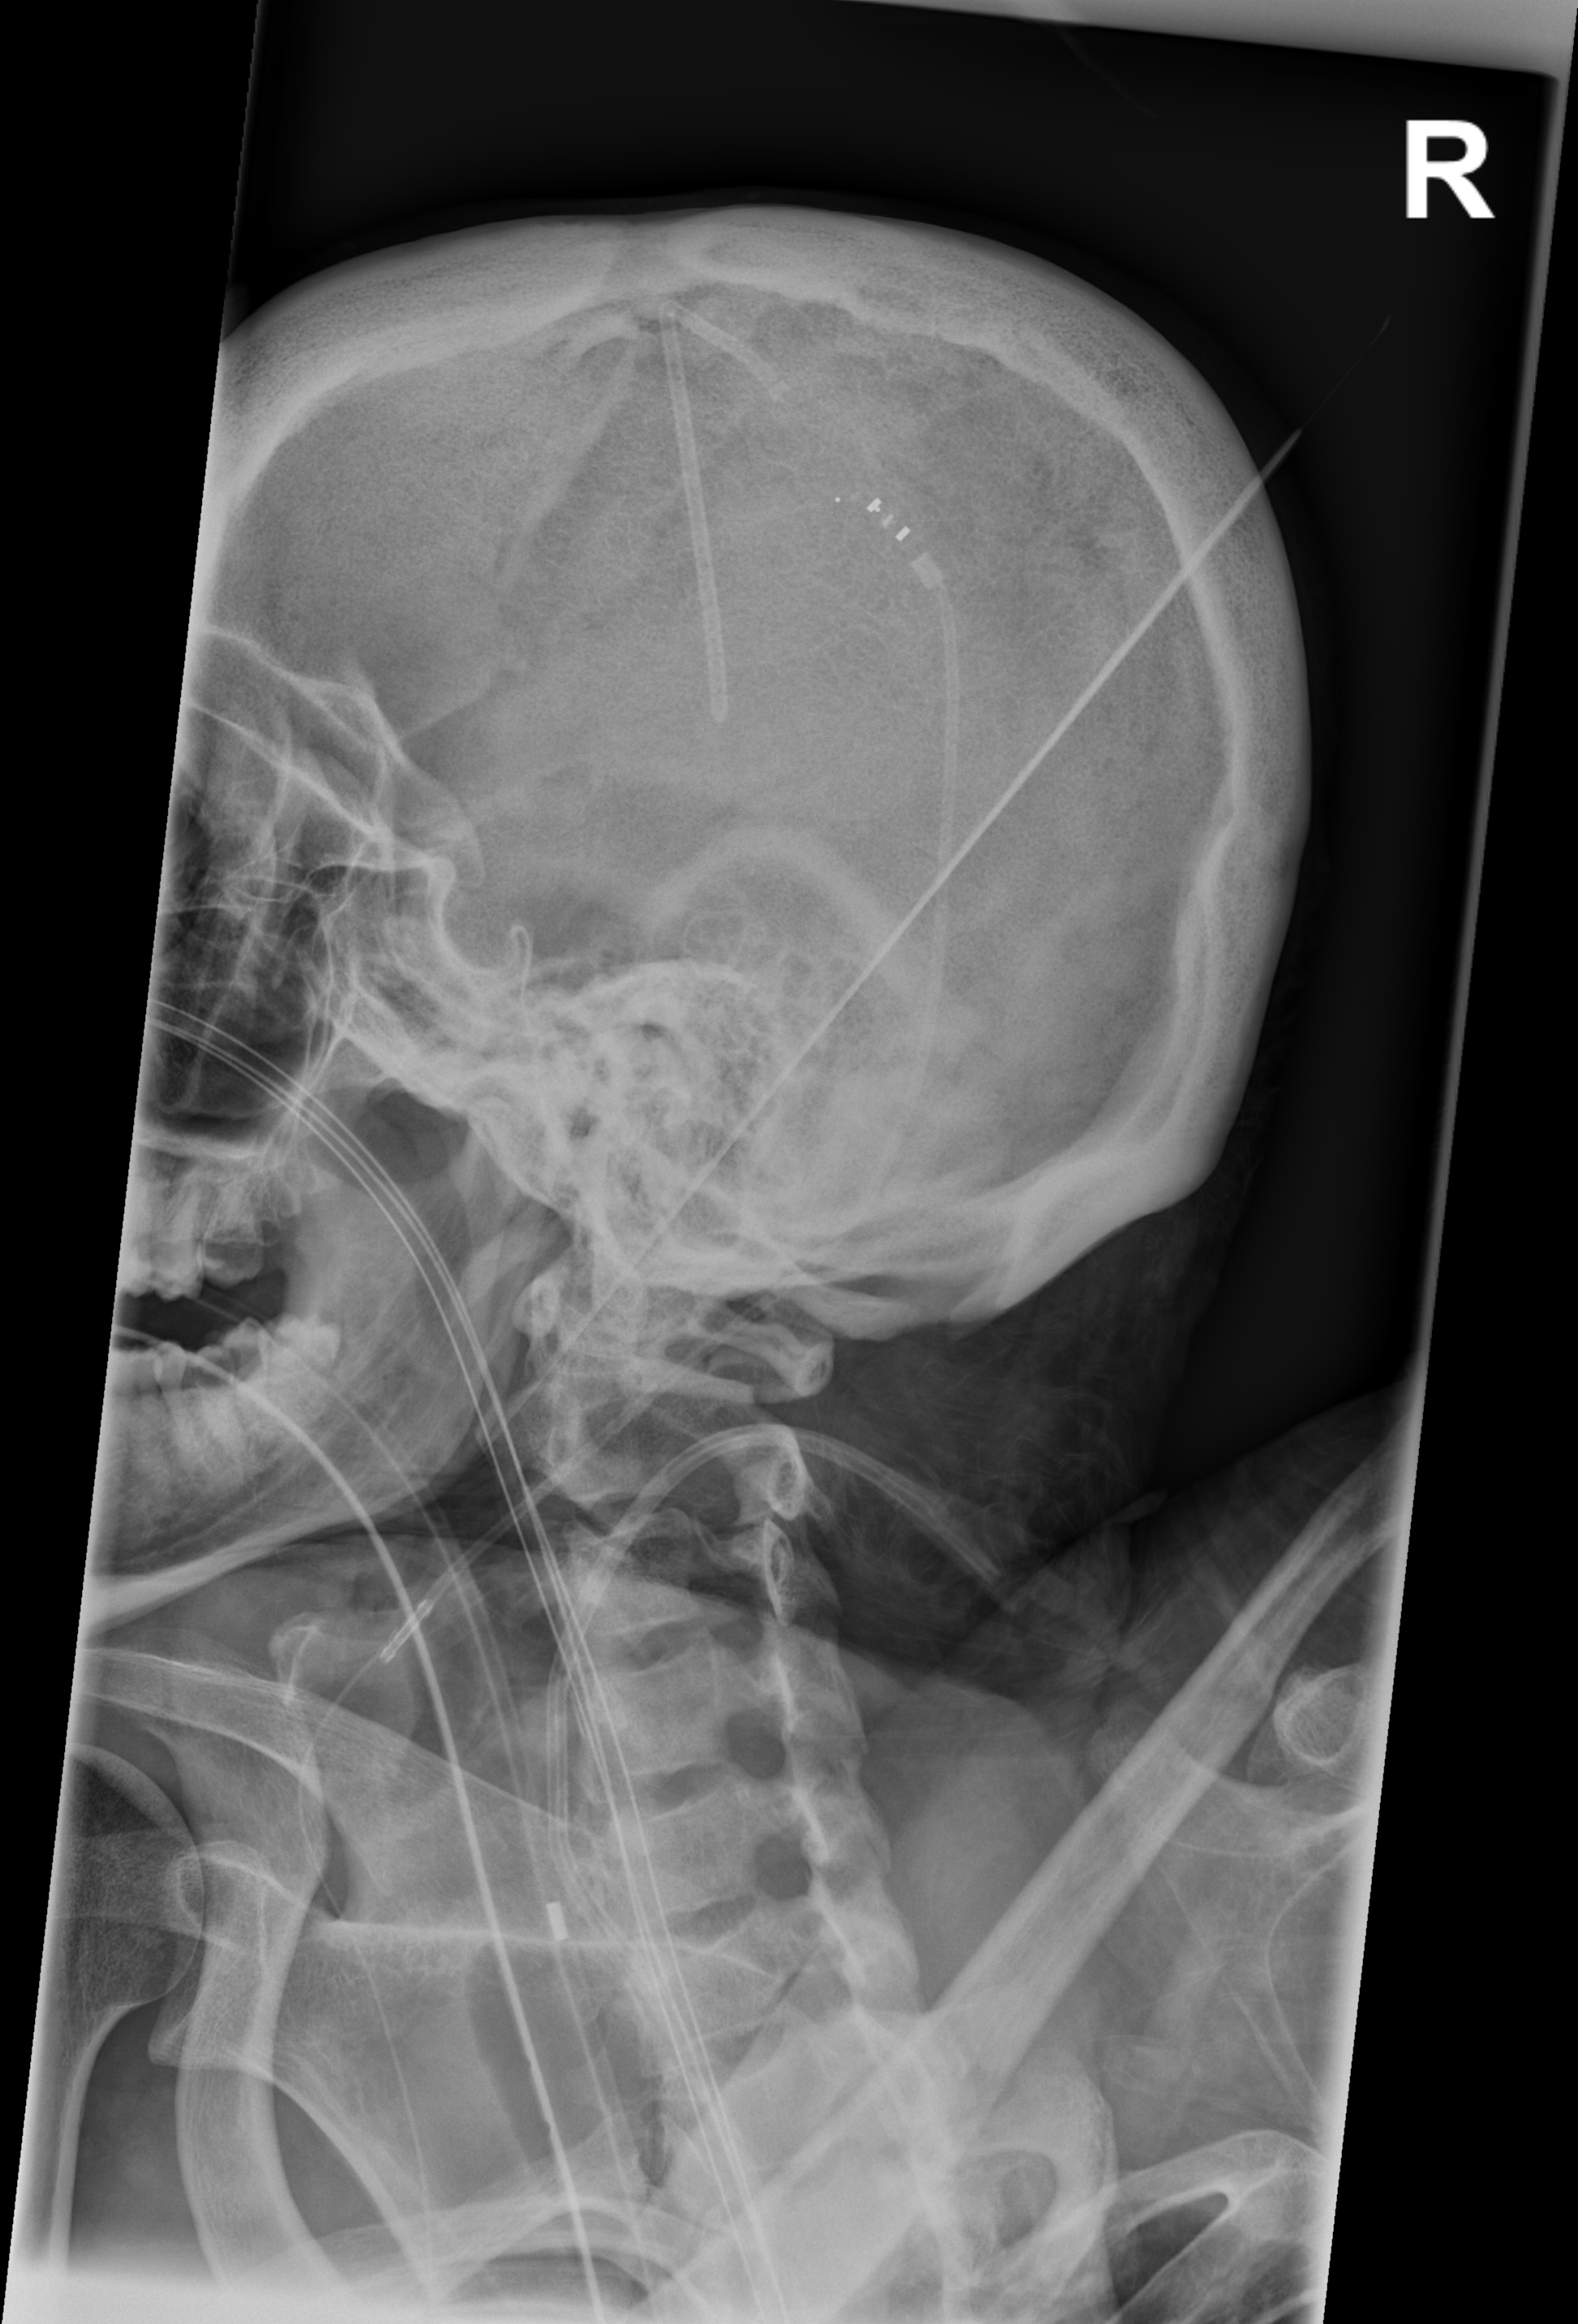Codman Certas: (819, 475, 942, 583)
